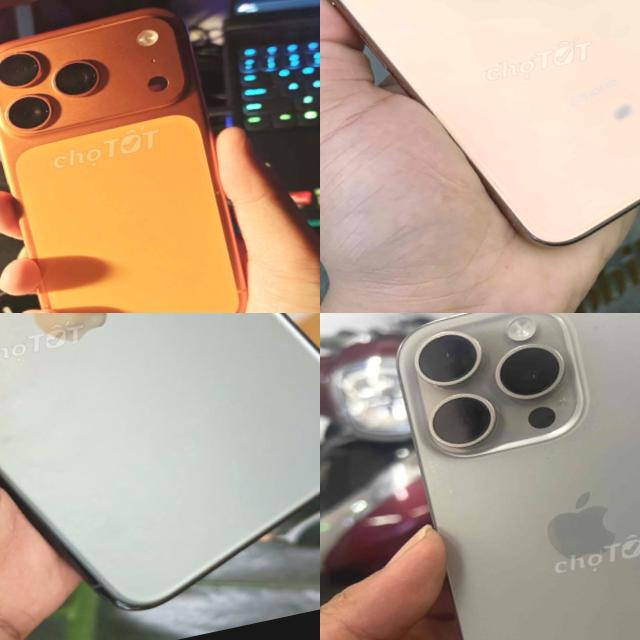gen_11: (0, 313, 320, 640)
gen_15: (367, 313, 640, 640)
gen_17: (0, 0, 277, 313)
gen_x_xs: (329, 0, 640, 244)
